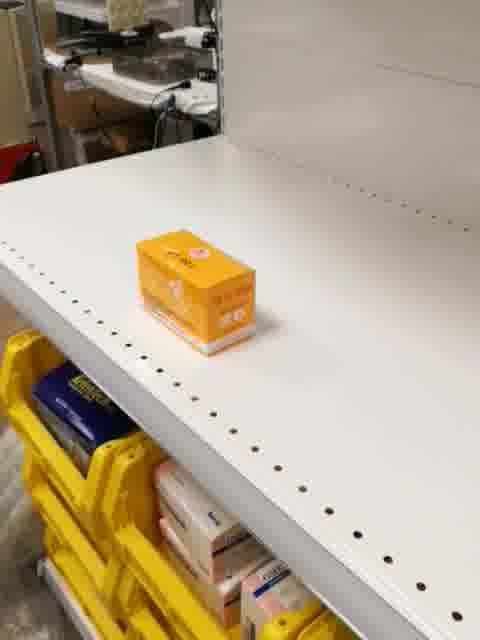jasminetea: (136, 228, 258, 361)
